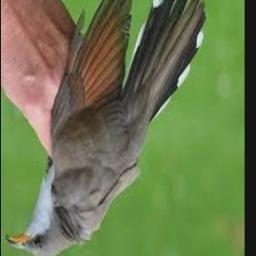Cuckoo: (6, 0, 207, 256)
